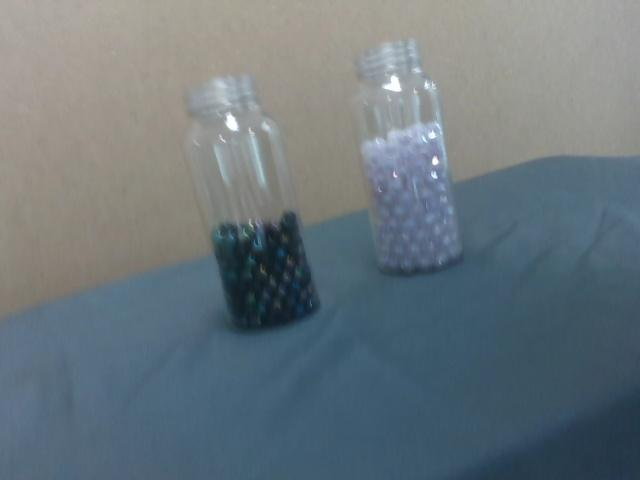black_bottle: (207, 211, 325, 333)
purple_bottle: (358, 122, 469, 274)
